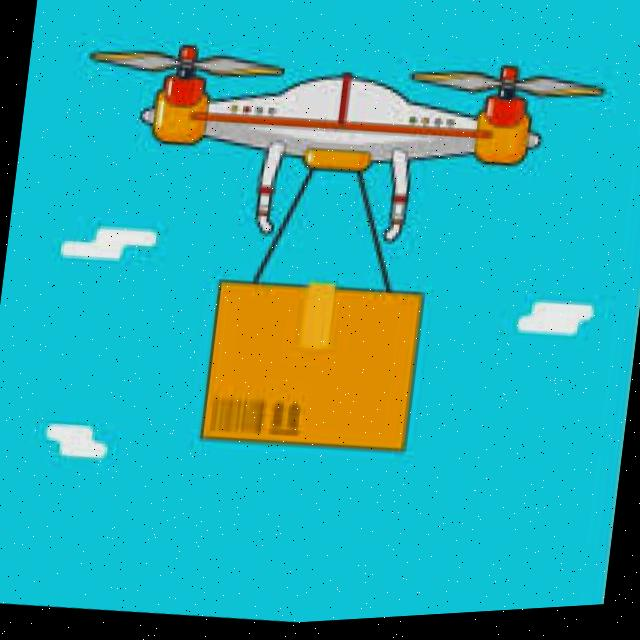drone: (48, 0, 605, 304)
